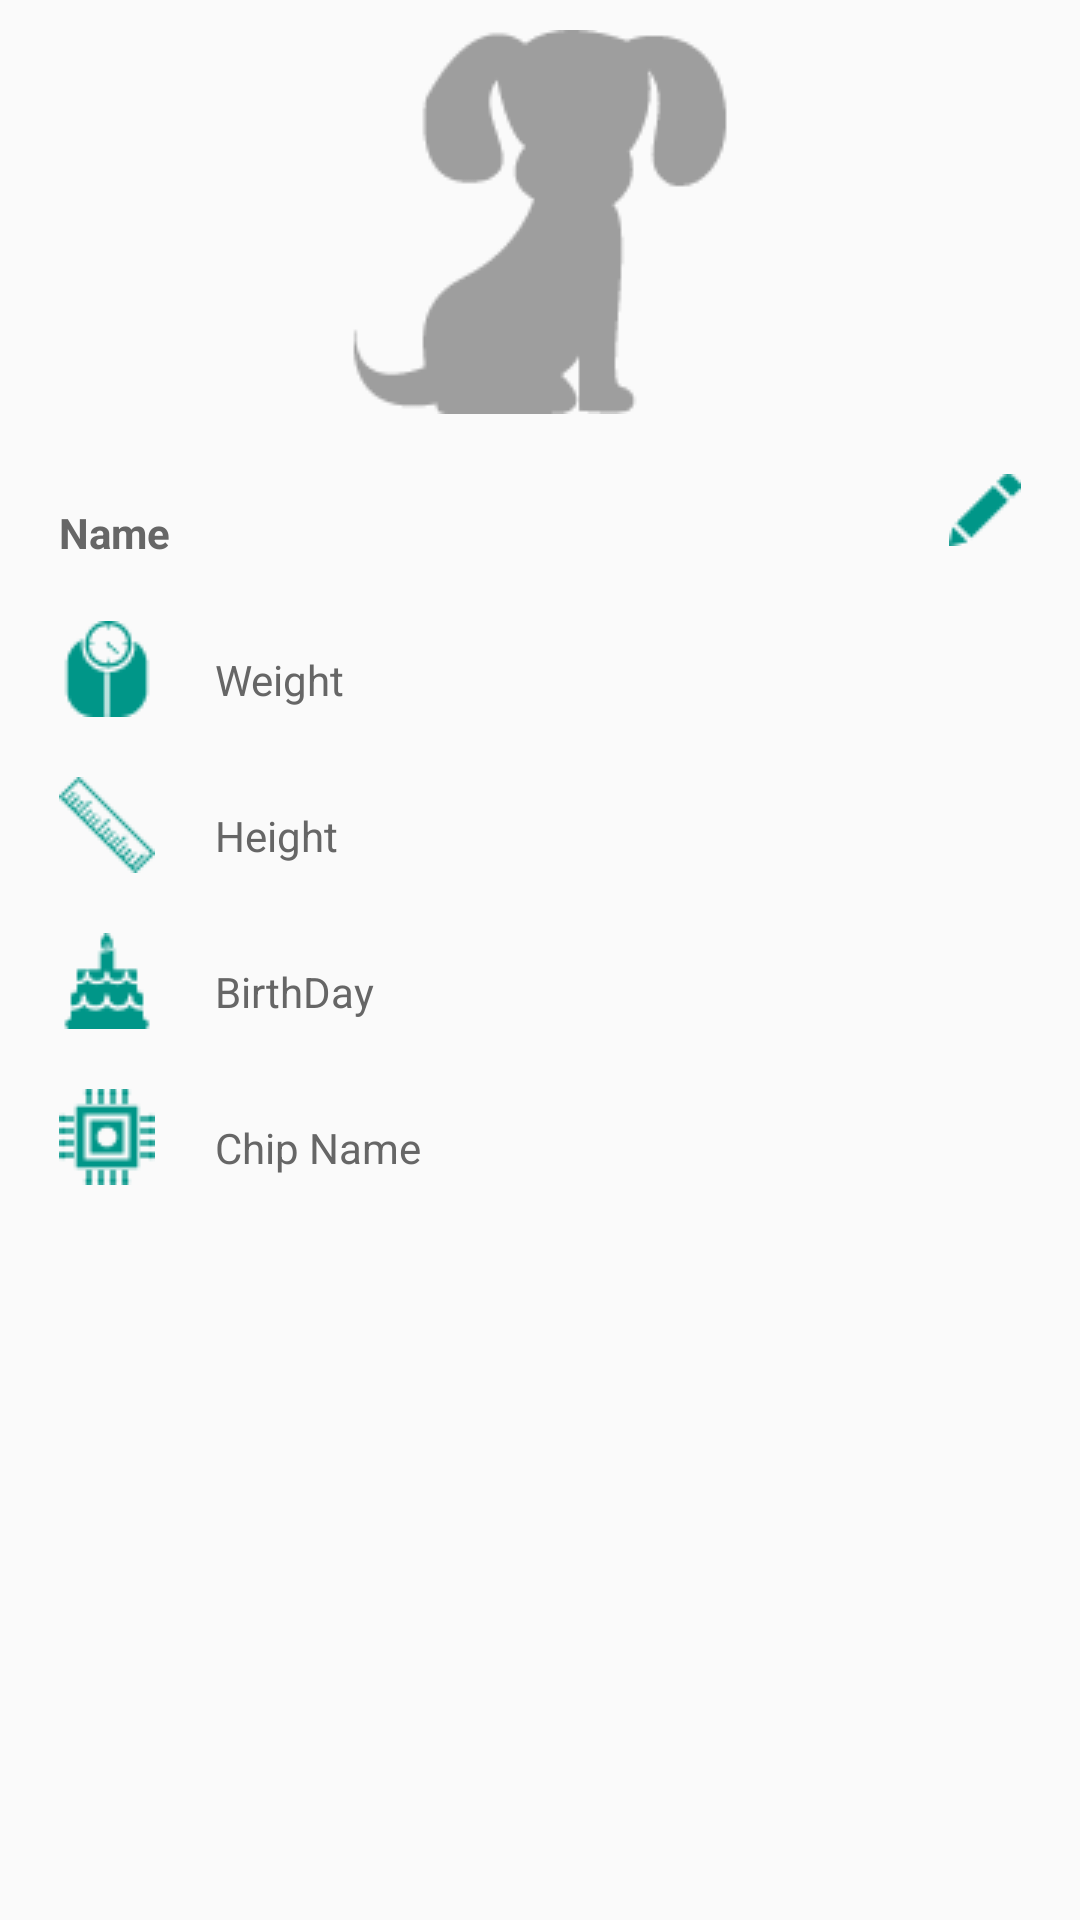

Screen size 1080*1920. Icon name, then its center in pixels as (x=x, y=y):
cake: (x=107, y=981)
edit: (x=985, y=510)
